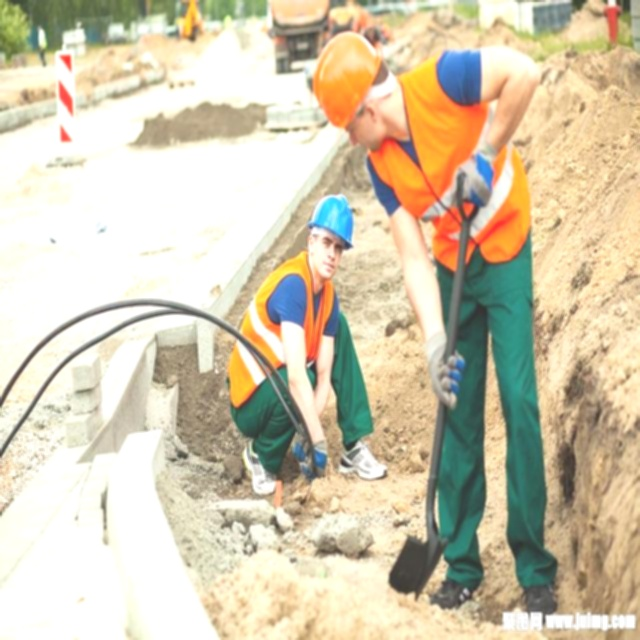Con_Casco: (313, 32, 388, 151), (307, 192, 354, 285)
